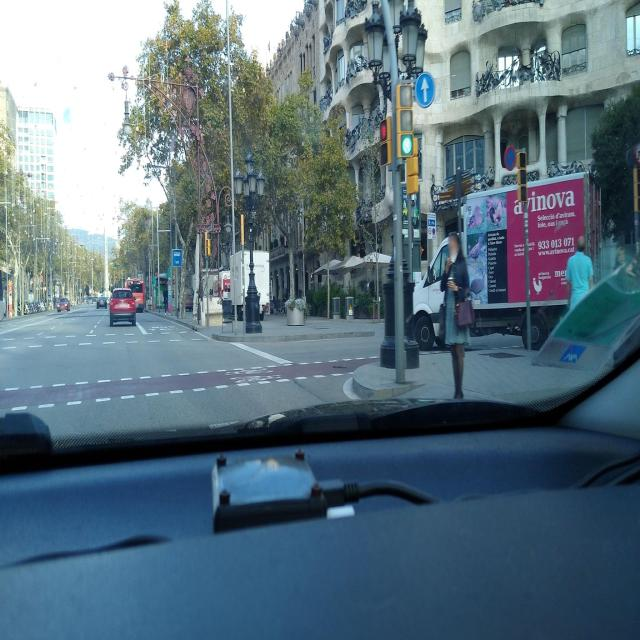forb_stopping: (504, 145, 516, 171)
